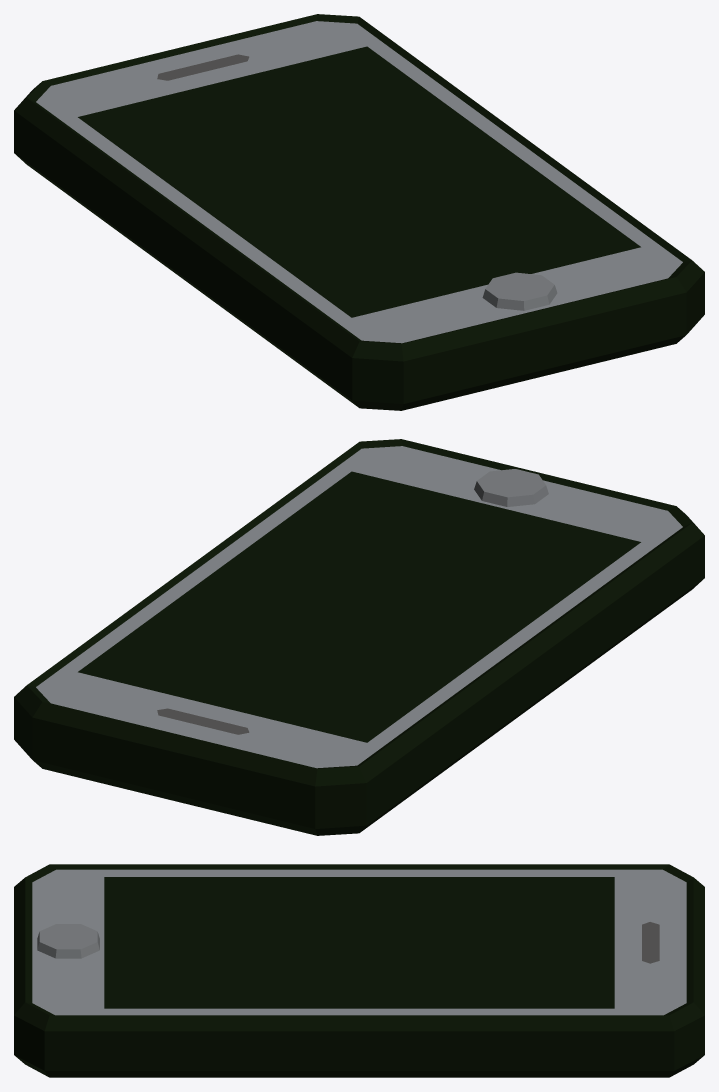
The model's file is SM_Prop_Cellphone_01.fbx.
3 views of the same model, one above another, from view 1: azimuth 30°, elevation 25°; view 2: azimuth 150°, elevation 25°; view 3: azimuth 270°, elevation 25° (orthographic). The views are drawn at different scales.
Parts seen in each view (by area): view 1: SM_Prop_Cellphone_01; view 2: SM_Prop_Cellphone_01; view 3: SM_Prop_Cellphone_01.
Boxes of the visible parts, x1,y1,x2,y2 form: SM_Prop_Cellphone_01: (14,14,704,410); SM_Prop_Cellphone_01: (14,439,704,835); SM_Prop_Cellphone_01: (14,864,704,1077).
Size of the model in its own units: 12.63 by 2.83 by 23.02.
